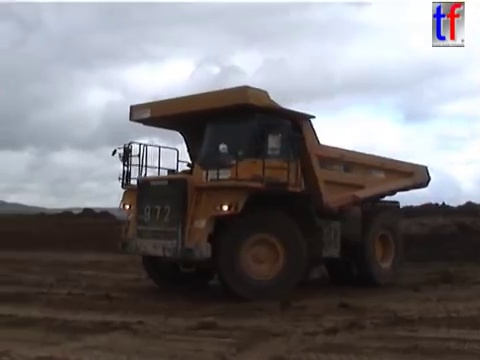truck: (108, 82, 435, 305)
